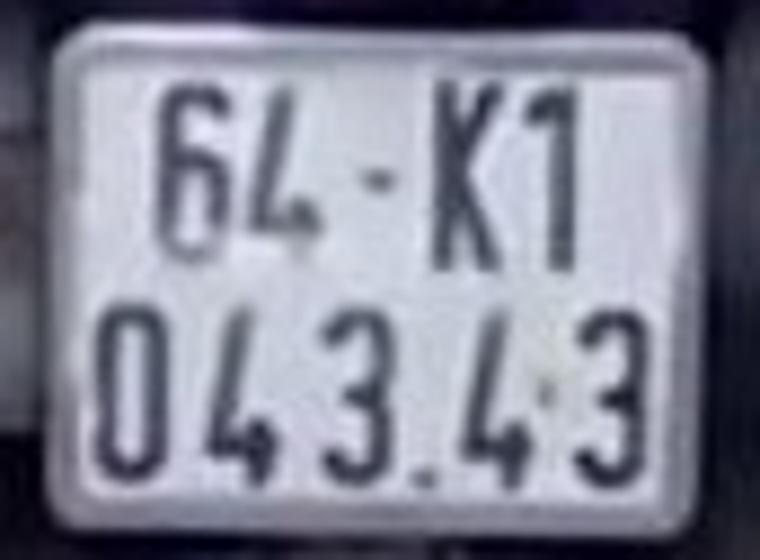-: (347, 157, 408, 201)
.: (402, 457, 450, 498)
0: (93, 305, 174, 491)
1: (523, 66, 595, 282)
3: (319, 298, 405, 495), (574, 298, 651, 498)
4: (243, 76, 330, 268), (459, 304, 540, 505), (200, 306, 283, 493)
6: (149, 77, 237, 266)
K: (428, 70, 520, 280)
